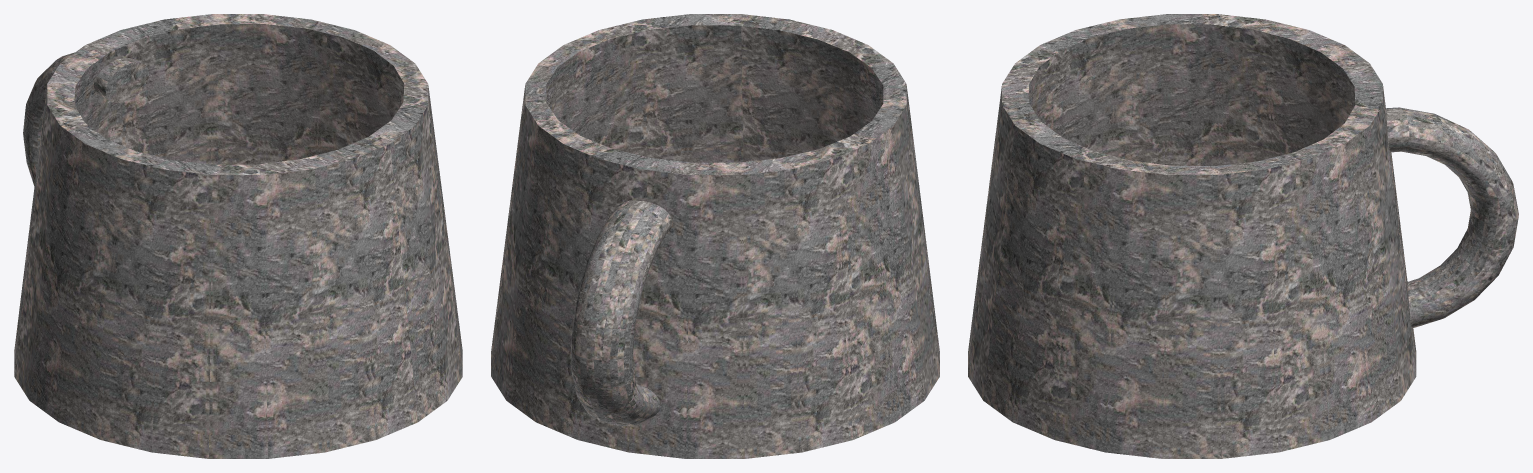
The picture shows the model from 3 angles, left to right: view 1: azimuth 30°, elevation 25°; view 2: azimuth 150°, elevation 25°; view 3: azimuth 270°, elevation 25°; orthographic projection.
Visible parts, largest first — view 1: mesh3_mesh3-geometry, mesh1_mesh1-geometry; view 2: mesh3_mesh3-geometry, mesh1_mesh1-geometry; view 3: mesh3_mesh3-geometry, mesh1_mesh1-geometry.
Part boxes in pixels (x1,y1,x2,y2): mesh3_mesh3-geometry: (14, 14, 462, 458); mesh1_mesh1-geometry: (23, 52, 149, 186); mesh3_mesh3-geometry: (491, 14, 939, 458); mesh1_mesh1-geometry: (571, 200, 672, 426); mesh3_mesh3-geometry: (968, 14, 1416, 458); mesh1_mesh1-geometry: (1386, 107, 1518, 328).
Size of the model in its own units: 0.5822 by 0.3862 by 0.7155.
Materials: 3 (1 with a texture image).
